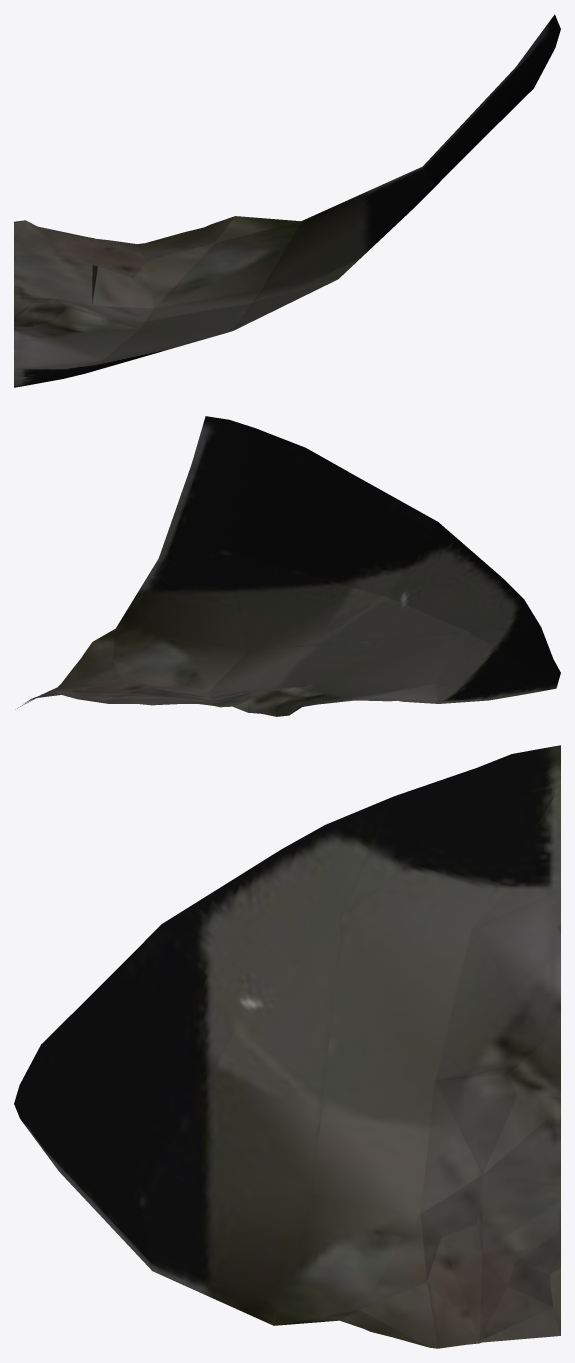
The picture shows the model from 3 angles, top to bottom: view 1: azimuth 90°, elevation 25°; view 2: azimuth 150°, elevation 25°; view 3: azimuth 270°, elevation 25°; orthographic projection. The views are drawn at different scales.
Bounding box in the file's own units: 2.12 × 0.6075 × 1.31.
Materials: 1 (1 with a texture image).
